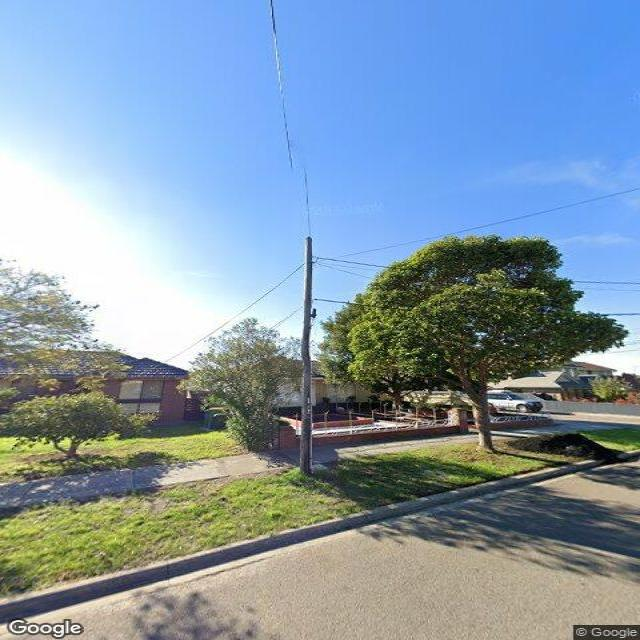timber-pole: (300, 236, 314, 474)
